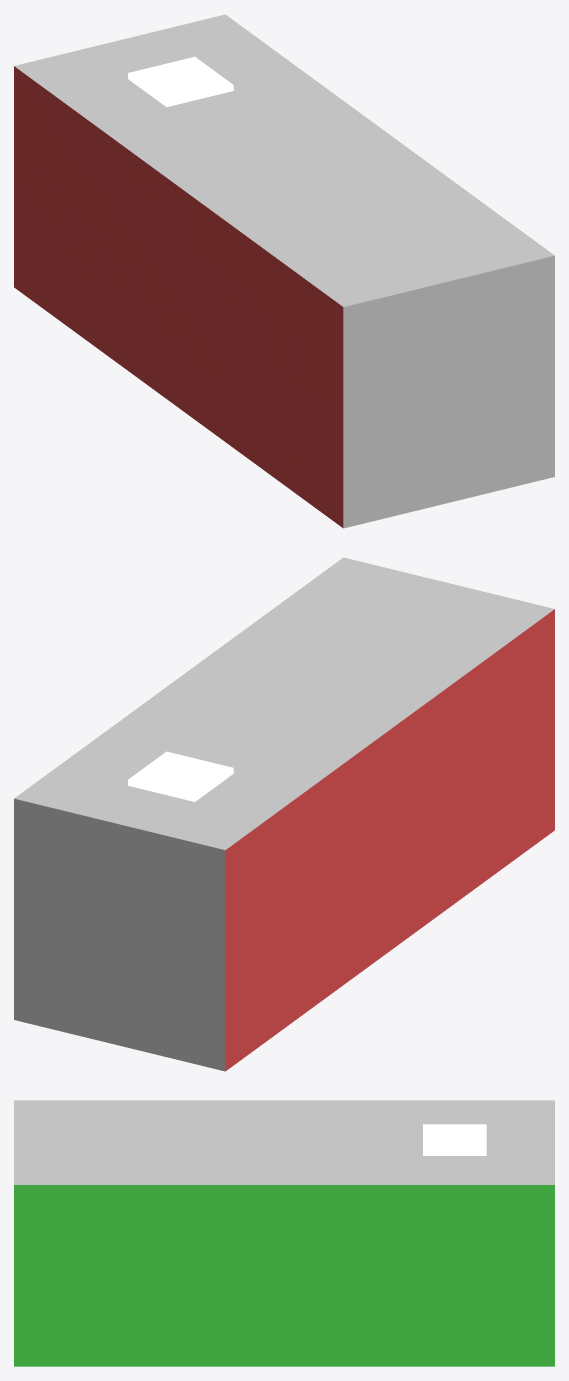
File: cornell.gltf
The picture shows the model from 3 angles, top to bottom: view 1: azimuth 30°, elevation 25°; view 2: azimuth 150°, elevation 25°; view 3: azimuth 270°, elevation 25°; orthographic projection. The views are drawn at different scales.
Parts seen in each view (by area): view 1: Cube.002, Cube.003; view 2: Cube.002, Cube.003; view 3: Cube.002, Cube.003.
Boxes of the visible parts, x1=… form: Cube.002: x1=14, y1=14, x2=554, y2=528; Cube.003: x1=128, y1=56, x2=233, y2=107; Cube.002: x1=14, y1=557, x2=554, y2=1071; Cube.003: x1=128, y1=751, x2=233, y2=801; Cube.002: x1=14, y1=1100, x2=554, y2=1366; Cube.003: x1=423, y1=1124, x2=486, y2=1155.
Bounding box in the file's own units: 6.3 × 6.47 × 17.01.
